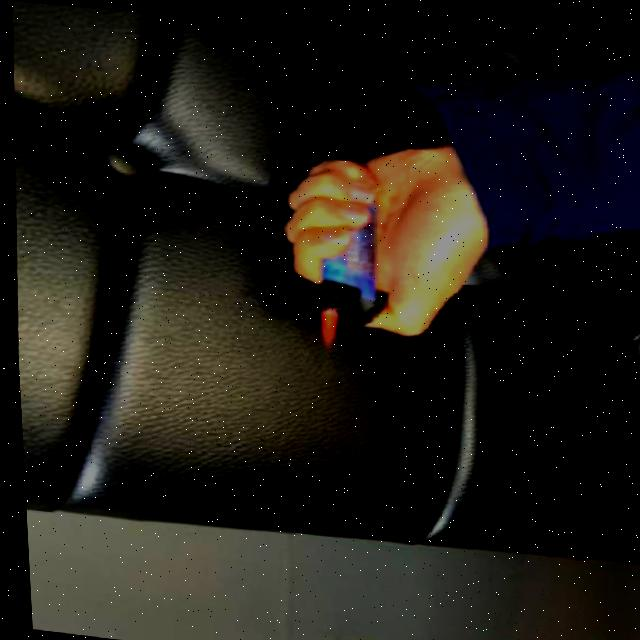Fire: (315, 296, 338, 344)
